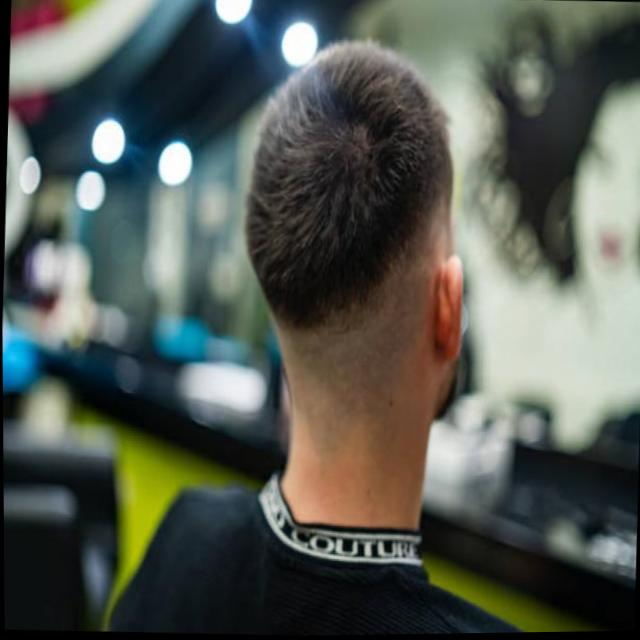no helmet: (239, 41, 461, 451)
